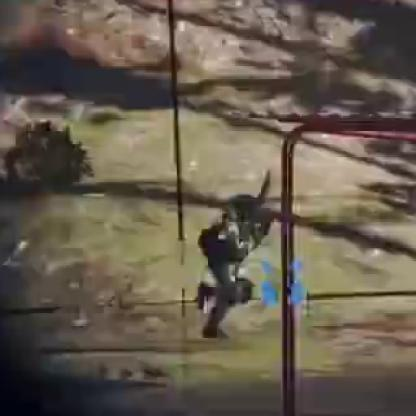enemy: (193, 187, 272, 338)
